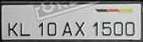character: (73, 20, 86, 37), (18, 22, 31, 36), (6, 21, 18, 36), (61, 21, 73, 36), (123, 21, 135, 36), (112, 20, 123, 36), (46, 21, 57, 36), (101, 21, 112, 36), (92, 20, 99, 37), (38, 21, 44, 36)
